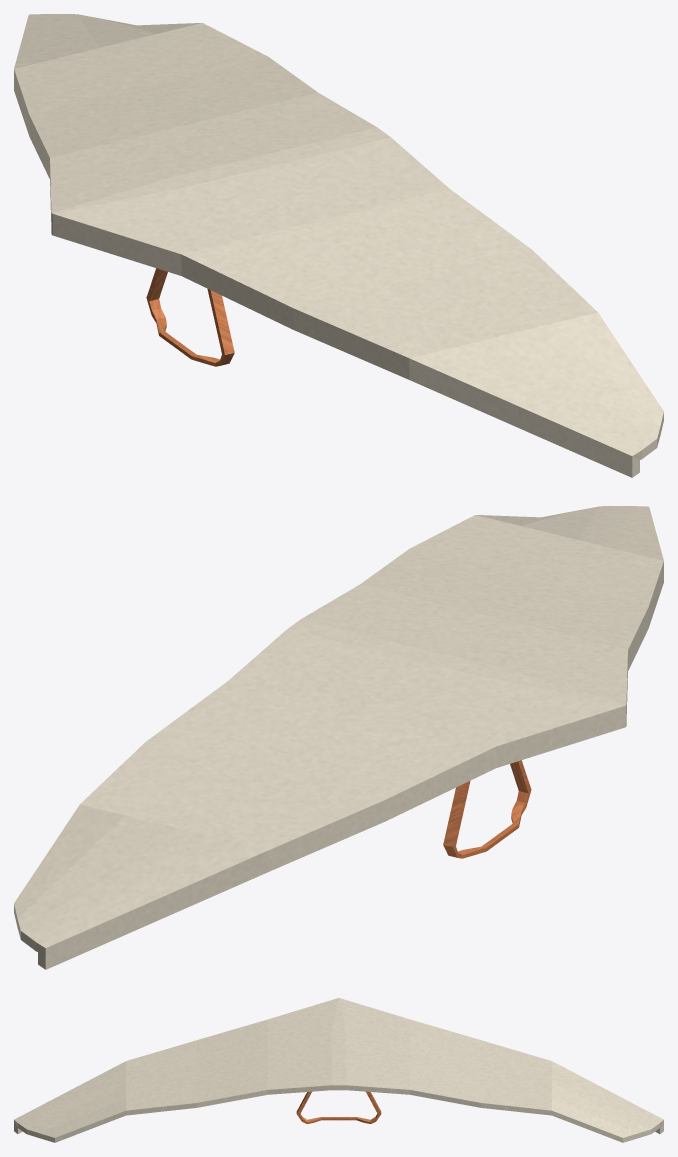
File: glider.fbx
3 renders of one model, top to bottom at view 1: azimuth 30°, elevation 25°; view 2: azimuth 150°, elevation 25°; view 3: azimuth 270°, elevation 25°, orthographic. The views are drawn at different scales.
Parts seen in each view (by area): view 1: glider; view 2: glider; view 3: glider.
Part boxes in pixels (left/top/right/bottom): glider: left=14, top=14, right=663, bottom=477; glider: left=14, top=506, right=663, bottom=969; glider: left=14, top=998, right=663, bottom=1142.
Size of the model in its own units: 176 by 79.28 by 527.
Materials: 1 (1 with a texture image).
